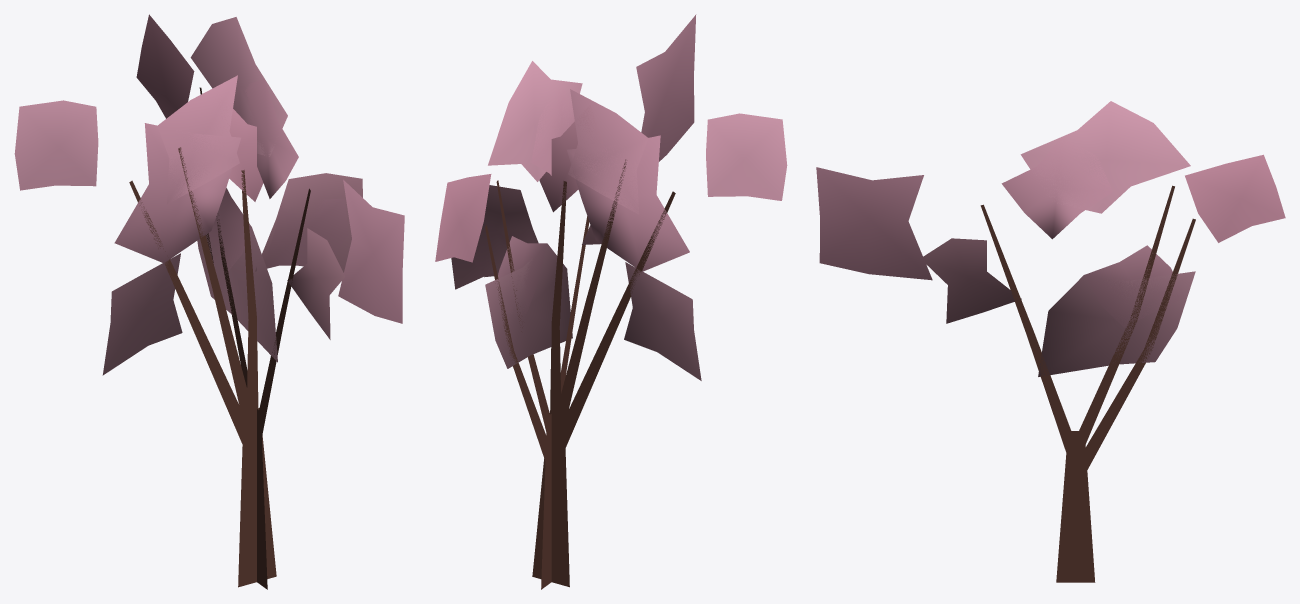
File: cherry-b.card.glb
3 views of the same model, side by side, from view 1: azimuth 30°, elevation 25°; view 2: azimuth 150°, elevation 25°; view 3: azimuth 270°, elevation 25° (orthographic). The views are drawn at different scales.
Size of the model in its own units: 4 by 6.03 by 5.32.
